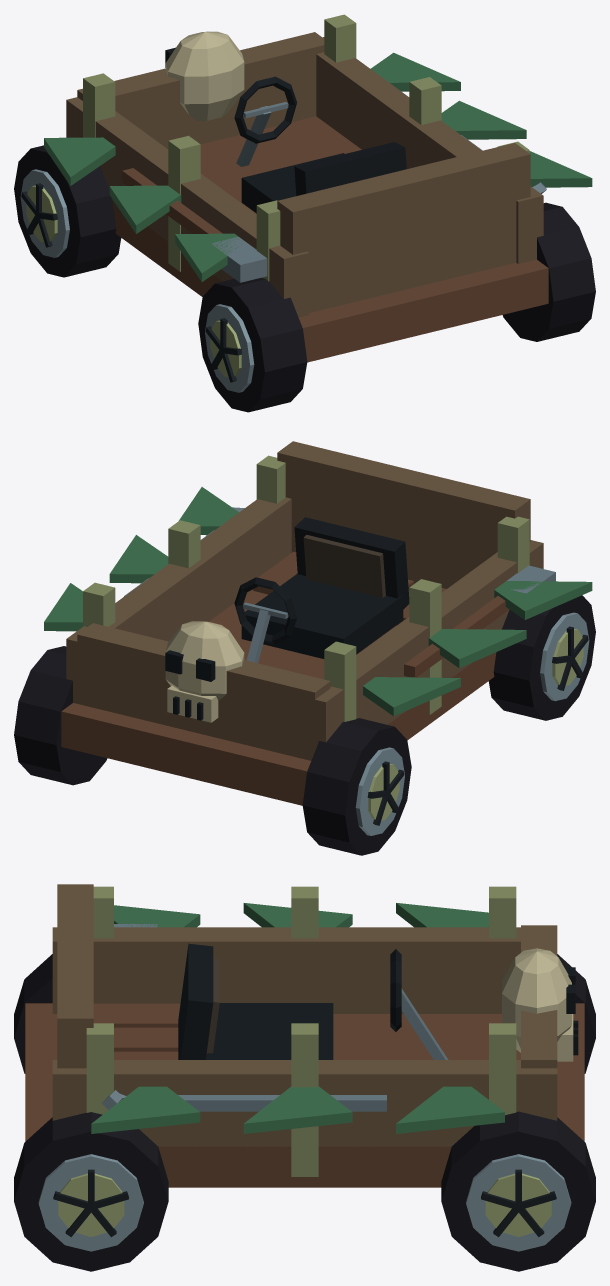
File: kart.glb
3 renders of one model, top to bottom at view 1: azimuth 30°, elevation 25°; view 2: azimuth 150°, elevation 25°; view 3: azimuth 270°, elevation 25°, orthographic. The views are drawn at different scales.
Visible parts, largest first — view 1: identity-wagon-wagon-timber-coach, wheel-rear-left, identity-wagon-motif-leaves, wheel-front-left, identity-wagon-driver-cockpit, wheel-rear-right, identity-wagon-motif-skull, identity-wagon-motif-tools; view 2: identity-wagon-wagon-timber-coach, identity-wagon-driver-cockpit, identity-wagon-motif-leaves, wheel-front-left, wheel-rear-left, wheel-front-right, identity-wagon-motif-skull, identity-wagon-motif-tools; view 3: identity-wagon-wagon-timber-coach, wheel-front-right, wheel-rear-right, identity-wagon-motif-leaves, identity-wagon-driver-cockpit, identity-wagon-motif-skull, identity-wagon-motif-tools, wheel-rear-left, wheel-front-left.
Boxes of the visible parts, x1,y1,x2,y2 form: identity-wagon-wagon-timber-coach: (66,14,548,362); wheel-rear-left: (198,278,307,412); identity-wagon-motif-leaves: (44,52,592,281); wheel-front-left: (14,145,121,277); identity-wagon-driver-cockpit: (234,76,406,213); wheel-rear-right: (502,202,595,341); identity-wagon-motif-skull: (165,31,244,120); identity-wagon-motif-tools: (122,135,546,282); identity-wagon-wagon-timber-coach: (61,441,543,805); identity-wagon-driver-cockpit: (234,517,409,663); identity-wagon-motif-leaves: (44,487,592,716); wheel-front-left: (302,718,411,855); wheel-rear-left: (488,595,595,720); wheel-front-right: (14,646,107,785); identity-wagon-motif-skull: (165,621,244,722); identity-wagon-motif-tools: (124,507,555,677); identity-wagon-wagon-timber-coach: (25,884,584,1187); wheel-front-right: (441,1111,595,1271); wheel-rear-right: (14,1112,168,1271); identity-wagon-motif-leaves: (91,903,504,1133); identity-wagon-driver-cockpit: (178,943,448,1059); identity-wagon-motif-skull: (502,948,578,1061); identity-wagon-motif-tools: (101,924,386,1111); wheel-rear-left: (14,954,52,1073); wheel-front-left: (557,954,595,1073).
Bounding box in the file's own units: 2.3 × 1.1 × 2.56.
